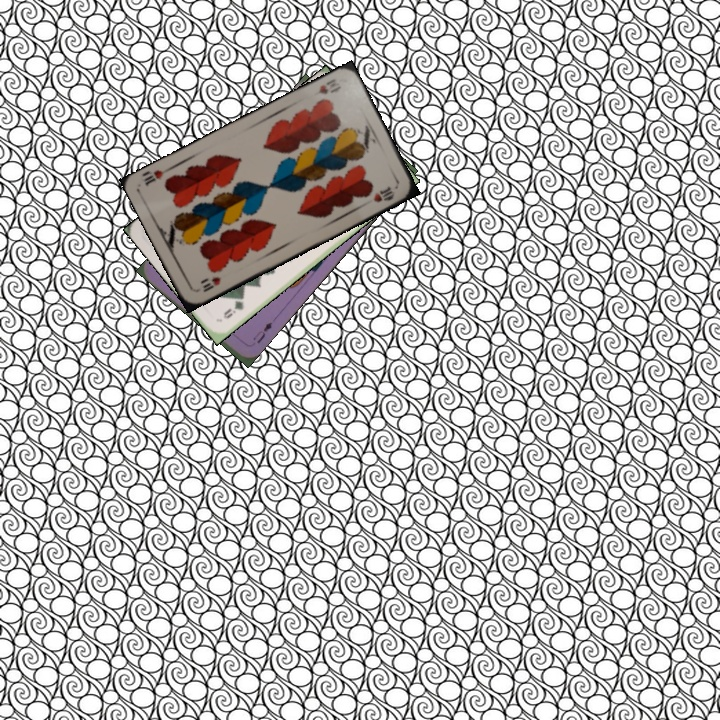EU: (249, 318, 274, 346)
G9: (219, 293, 247, 321)
H10: (309, 74, 344, 97), (193, 272, 223, 295)
